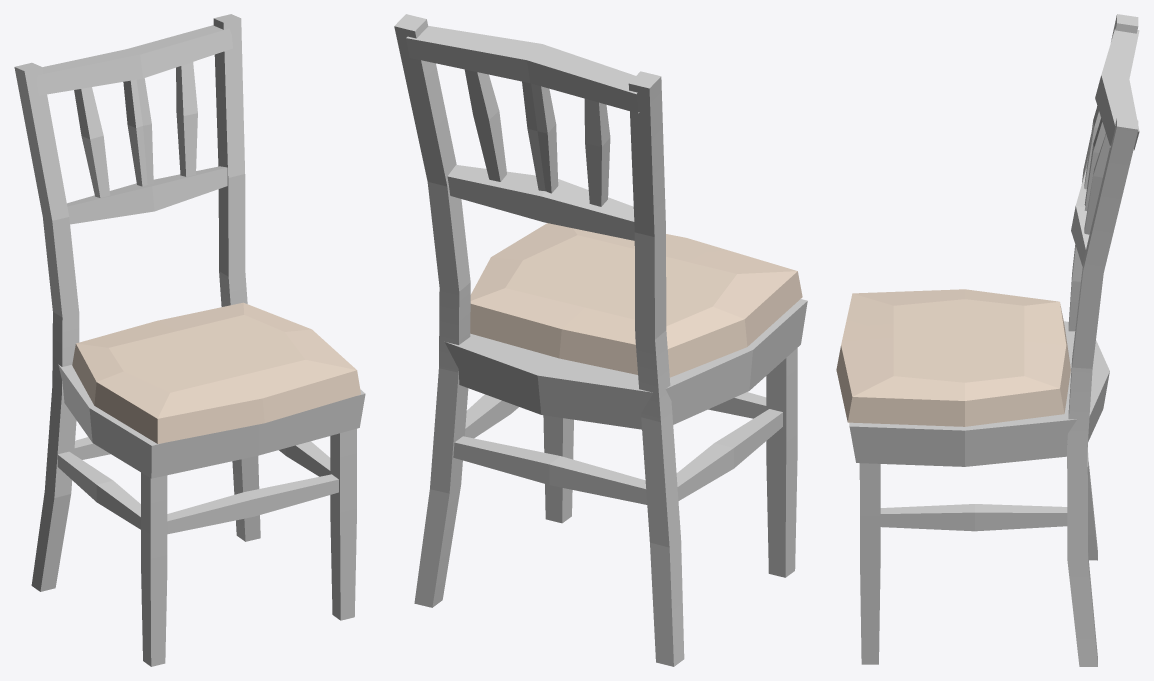
The model's file is furniture_chair-dining-old.fbx.
3 views of the same model, side by side, from view 1: azimuth 30°, elevation 25°; view 2: azimuth 150°, elevation 25°; view 3: azimuth 270°, elevation 25° (orthographic). The views are drawn at different scales.
Parts seen in each view (by area): view 1: furniture_chair_dining_old; view 2: furniture_chair_dining_old; view 3: furniture_chair_dining_old.
Part boxes in pixels (x1,y1,x2,y2): furniture_chair_dining_old: [14, 14, 365, 666]; furniture_chair_dining_old: [394, 14, 807, 666]; furniture_chair_dining_old: [836, 14, 1139, 666].
Bounding box in the file's own units: 94.36 × 200 × 101.
